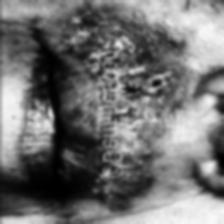Potentially Malignant Skin Tumors: (138, 67, 172, 99), (64, 30, 90, 46)
